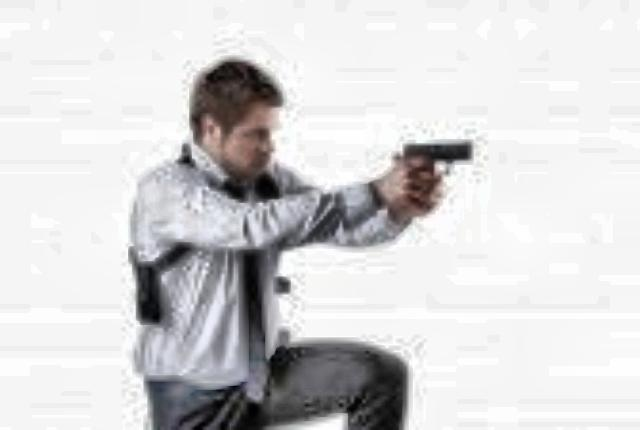pistol: (382, 130, 468, 206)
